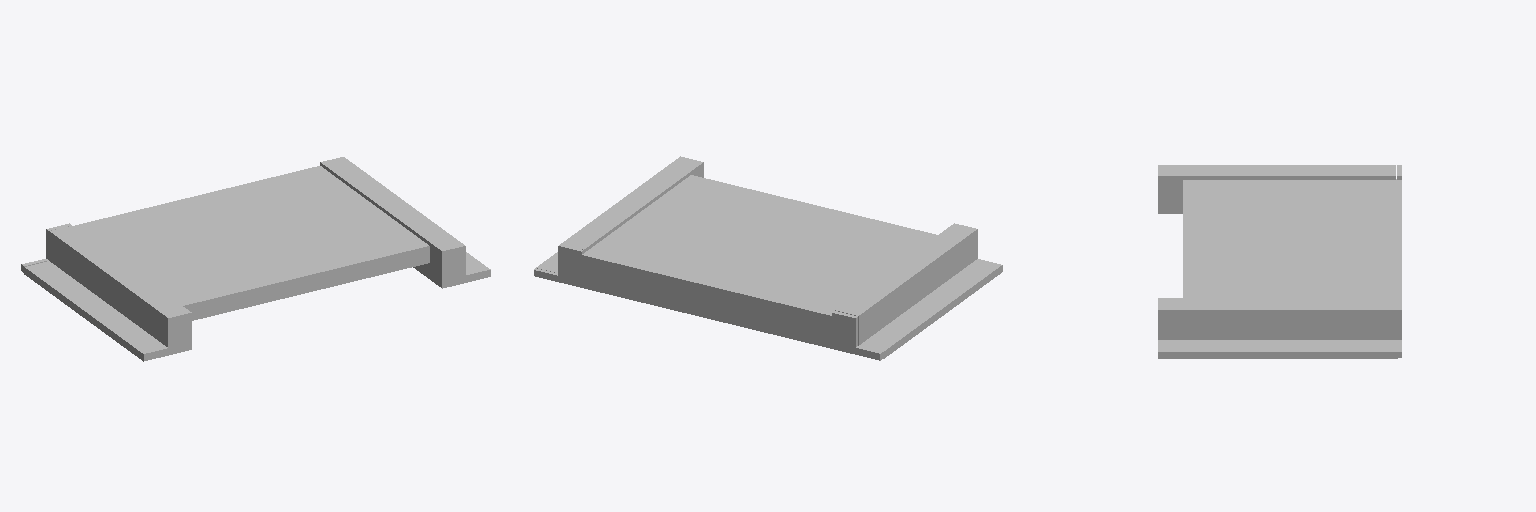
File: NeutralSheild.obj
The picture shows the model from 3 angles: view 1: azimuth 30°, elevation 25°; view 2: azimuth 150°, elevation 25°; view 3: azimuth 270°, elevation 25°; orthographic projection.
Parts seen in each view (by area): view 1: Cube.014_Cube.021, Cube.016_Cube.023, Cube.015_Cube.022; view 2: Cube.014_Cube.021, Cube.016_Cube.023, Cube.015_Cube.022; view 3: Cube.014_Cube.021, Cube.015_Cube.022, Cube.016_Cube.023.
Part boxes in pixels (x1,y1,x2,y2): Cube.014_Cube.021: (21, 157, 429, 320); Cube.016_Cube.023: (24, 226, 191, 361); Cube.015_Cube.022: (322, 158, 490, 288); Cube.014_Cube.021: (534, 175, 937, 360); Cube.016_Cube.023: (835, 223, 1002, 358); Cube.015_Cube.022: (536, 156, 703, 272); Cube.014_Cube.021: (1183, 165, 1401, 357); Cube.015_Cube.022: (1158, 298, 1397, 358); Cube.016_Cube.023: (1158, 165, 1395, 213).
Bounding box in the file's own units: 1.1 × 0.1127 × 0.6695.